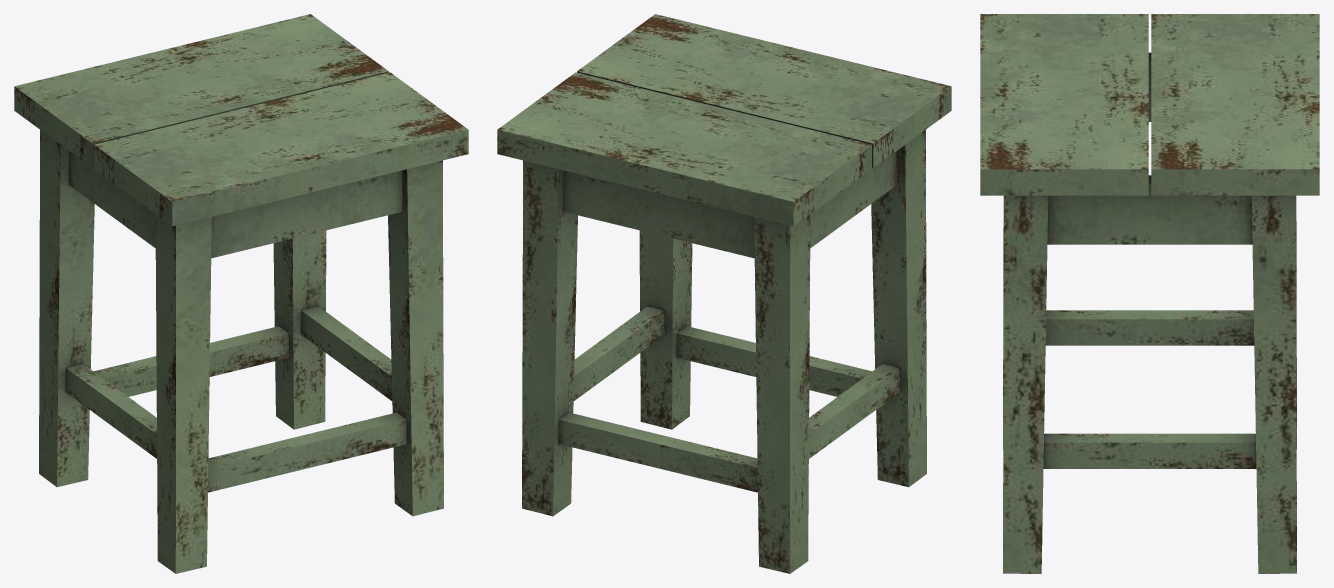
Rendered from stool_green_lod1_web.glb.
The picture shows the model from 3 angles, left to right: view 1: azimuth 30°, elevation 25°; view 2: azimuth 150°, elevation 25°; view 3: azimuth 270°, elevation 25°; orthographic projection. The views are drawn at different scales.
Visible parts, largest first — view 1: StoolGreen_Mesh; view 2: StoolGreen_Mesh; view 3: StoolGreen_Mesh.
Boxes of the visible parts, x1,y1,x2,y2 form: StoolGreen_Mesh: (14,14,468,573); StoolGreen_Mesh: (497,14,951,573); StoolGreen_Mesh: (980,14,1319,573).
Size of the model in its own units: 0.38 by 0.4704 by 0.351.
Materials: 1 (1 with a texture image).
